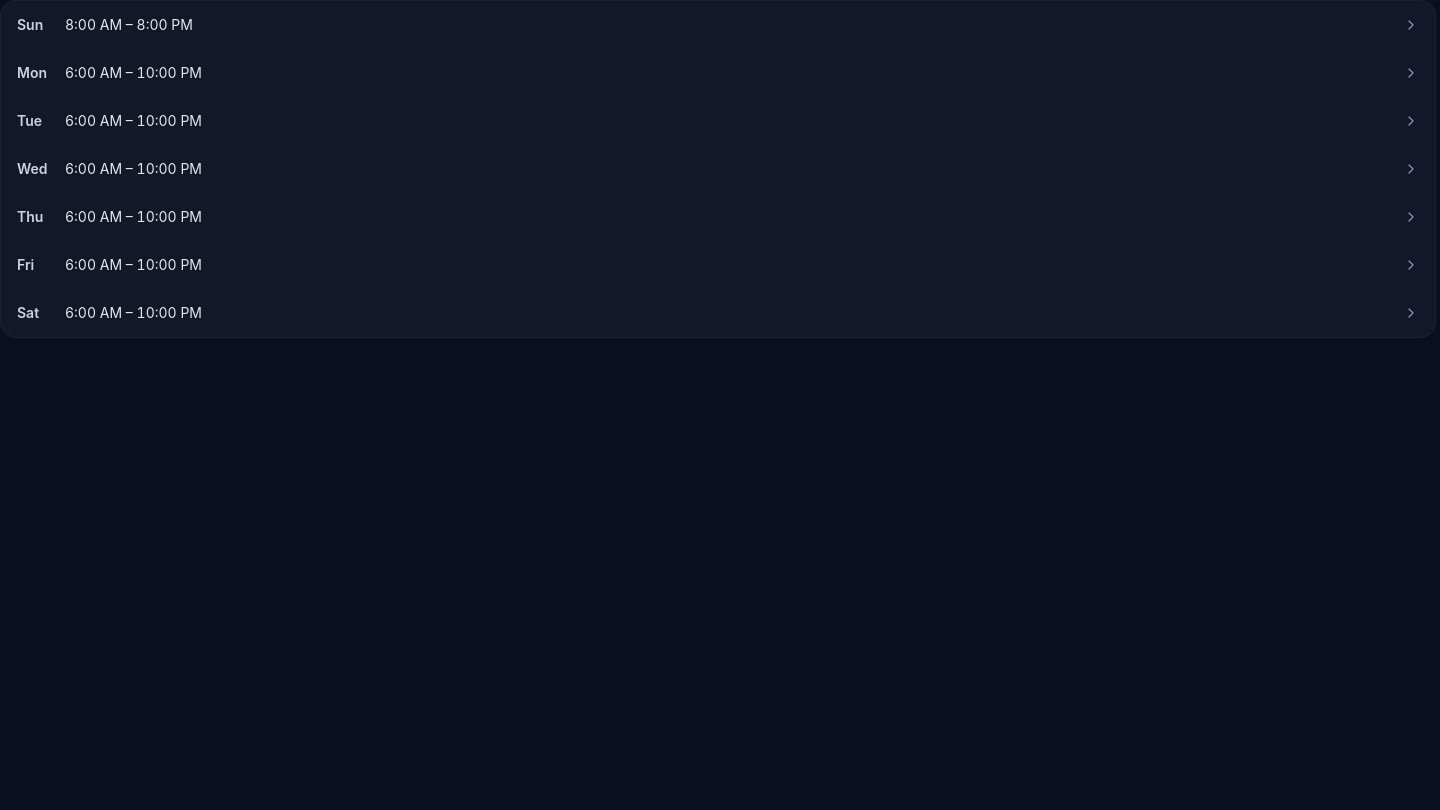
Test: StoreHoursSection › sheet shows the correct day name
Expected: the button with test id "day-row-0" is shown, [1,1,1435,49]
Step 1. Click the button "Wed 6:00 AM – 10:00 PM" → (32, 180), box [1,145,1435,193]
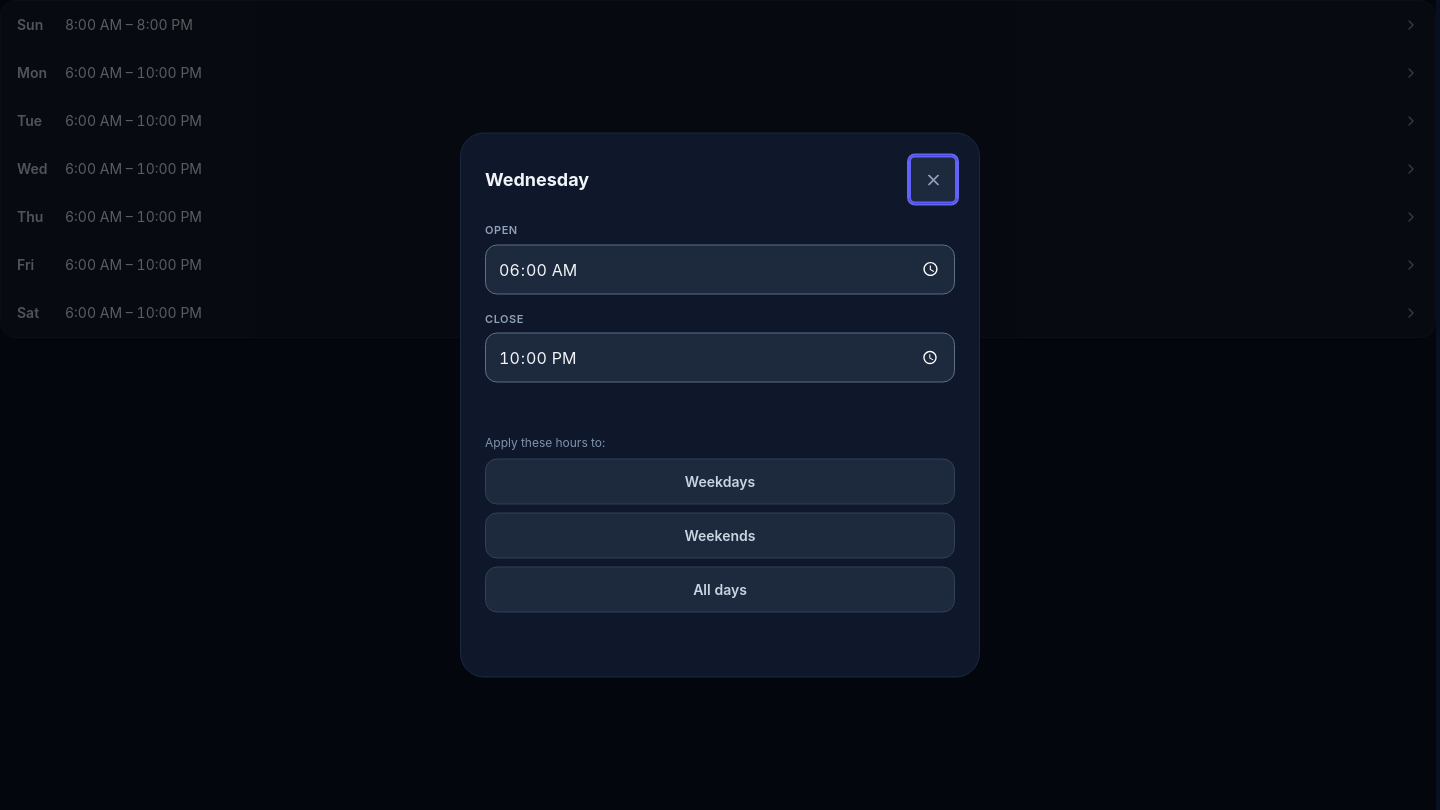
Now the heading "Wednesday" is shown, box [485,166,589,194]
